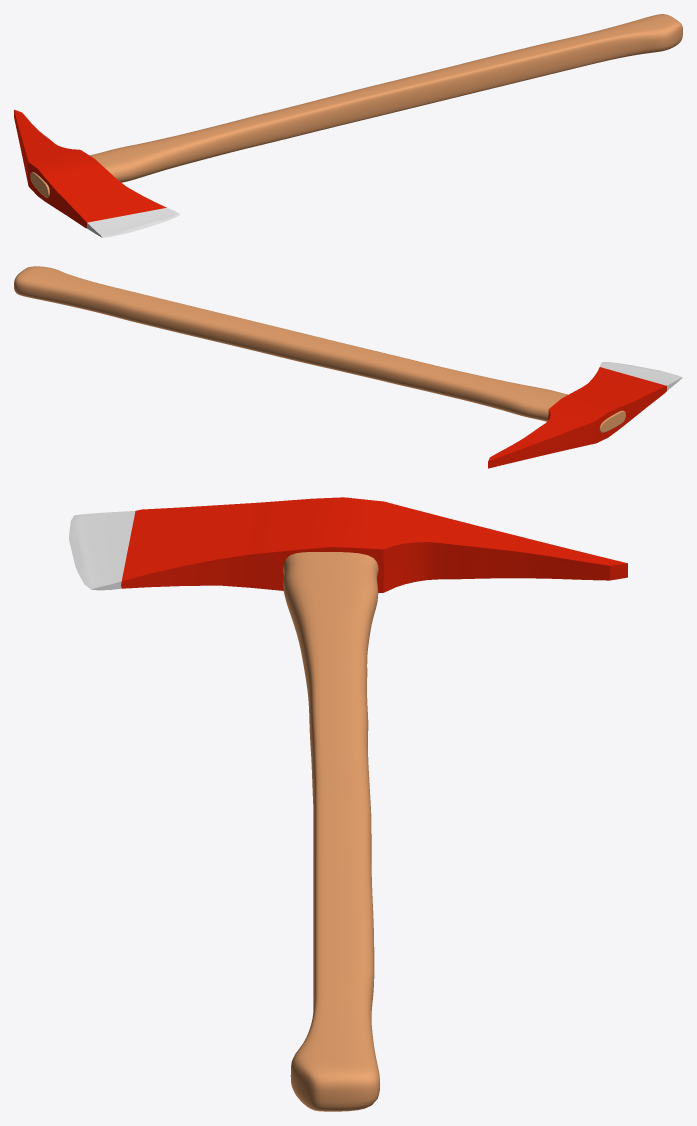
The model's file is axeExport-1.fbx.
The picture shows the model from 3 angles, top to bottom: view 1: azimuth 30°, elevation 25°; view 2: azimuth 150°, elevation 25°; view 3: azimuth 270°, elevation 25°; orthographic projection. The views are drawn at different scales.
Parts seen in each view (by area): view 1: Handle; view 2: Handle; view 3: Handle.
Boxes of the visible parts, bbox=[...] form: Handle: bbox=[14, 14, 682, 237]; Handle: bbox=[14, 266, 682, 468]; Handle: bbox=[69, 497, 627, 1111].
Size of the model in its own units: 2075 by 84.02 by 841.
